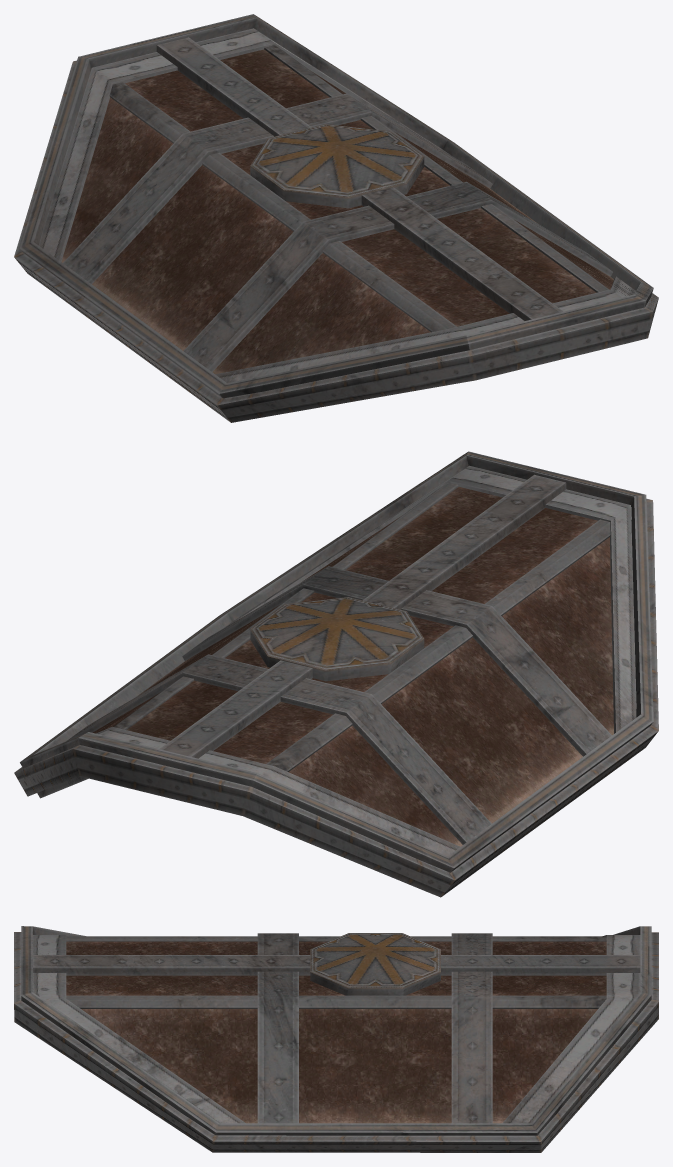
The model's file is sm_dwarf_erebor_shield_tower_b.fbx.
3 views of the same model, one above another, from view 1: azimuth 30°, elevation 25°; view 2: azimuth 150°, elevation 25°; view 3: azimuth 270°, elevation 25° (orthographic). The views are drawn at different scales.
Visible parts, largest first — view 1: sm_dwarf_erebor_shield_tower_b; view 2: sm_dwarf_erebor_shield_tower_b; view 3: sm_dwarf_erebor_shield_tower_b.
Part boxes in pixels (left/top/right/bottom): sm_dwarf_erebor_shield_tower_b: left=14, top=14, right=658, bottom=422; sm_dwarf_erebor_shield_tower_b: left=14, top=451, right=658, bottom=897; sm_dwarf_erebor_shield_tower_b: left=14, top=926, right=658, bottom=1152.
Bounding box in the file's own units: 0.661 × 1.04 × 0.2209.
Materials: 1 (1 with a texture image).
